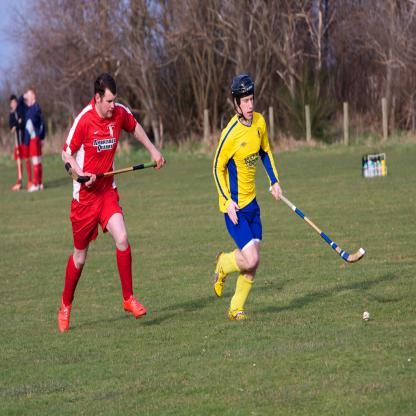Ball: (364, 311, 369, 322)
